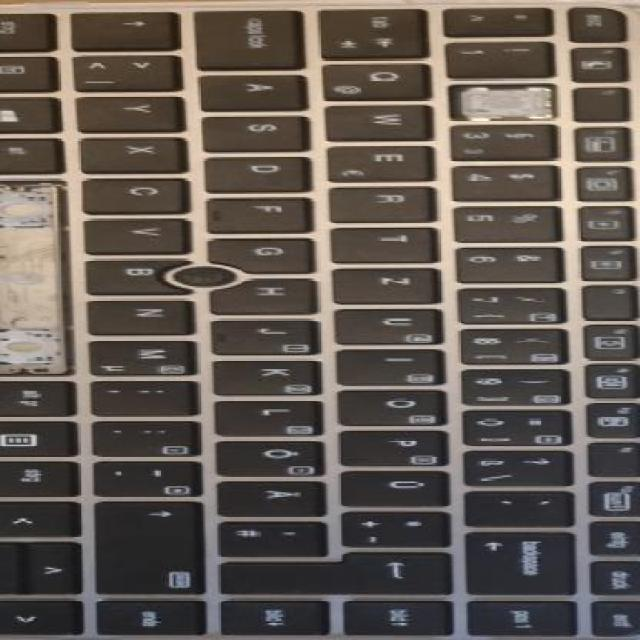Keyboard problems: (0, 182, 71, 375), (455, 86, 554, 118)
